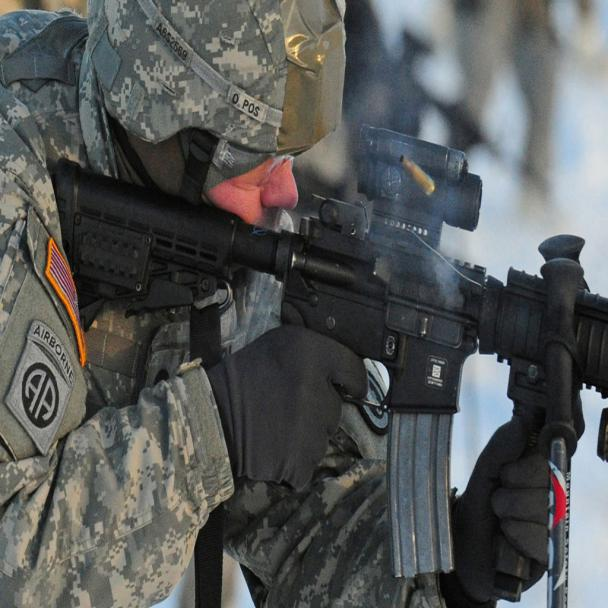Gun: (49, 149, 608, 465)
Hand: (190, 317, 370, 524), (444, 423, 586, 607)
